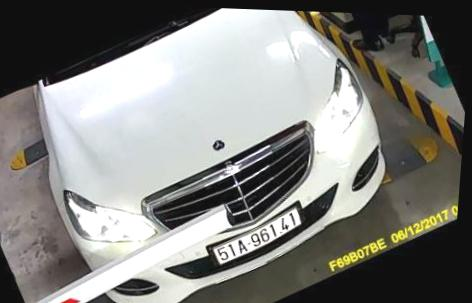License_Plate: (201, 198, 309, 270)
